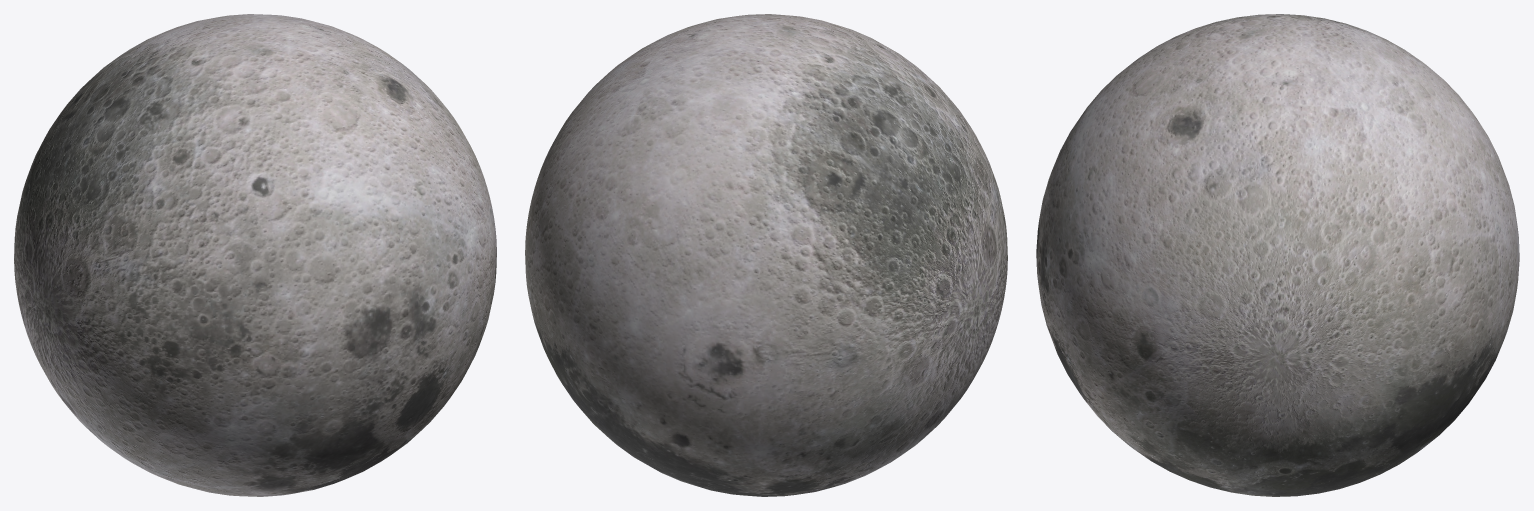
Rendered from earth_moon.gltf.
3 views of the same model, side by side, from view 1: azimuth 30°, elevation 25°; view 2: azimuth 150°, elevation 25°; view 3: azimuth 270°, elevation 25° (orthographic).
Visible parts, largest first — view 1: moon_31; view 2: moon_31; view 3: moon_31.
Boxes of the visible parts, x1,y1,x2,y2 form: moon_31: (14,14,496,496); moon_31: (525,14,1007,496); moon_31: (1036,14,1519,496).
Bounding box in the file's own units: 0.3602 × 0.3602 × 0.3602.
Materials: 1 (1 with a texture image).
